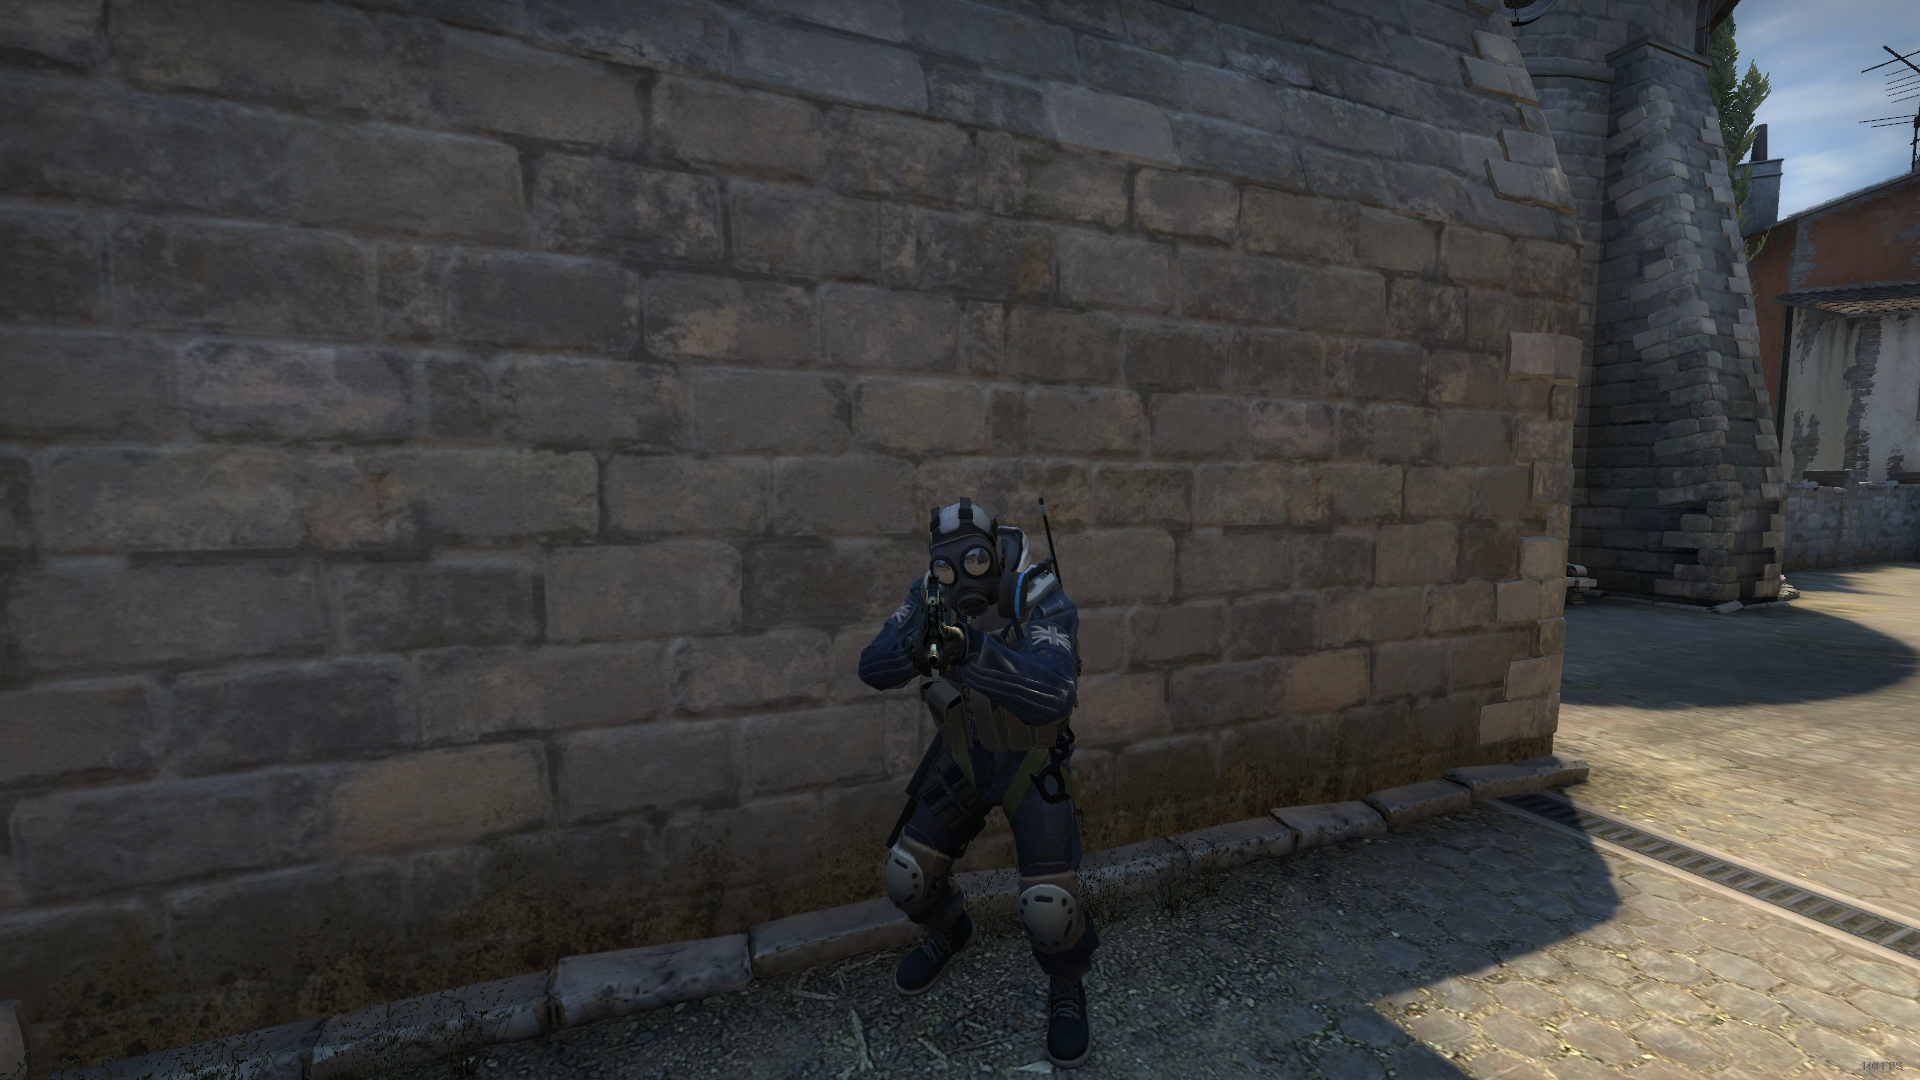ct: (862, 483, 1112, 1073)
